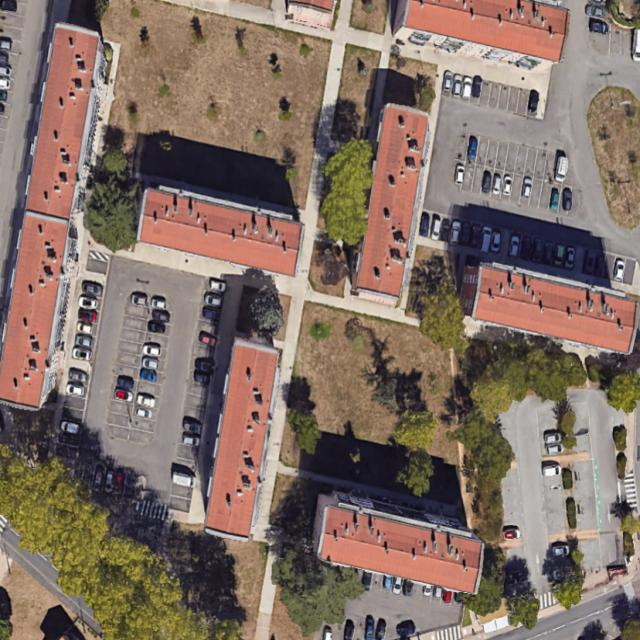immeuble: (0, 20, 111, 411), (305, 488, 492, 597), (454, 257, 640, 356), (201, 340, 285, 541), (352, 102, 433, 306), (133, 183, 308, 277), (390, 0, 570, 71)
